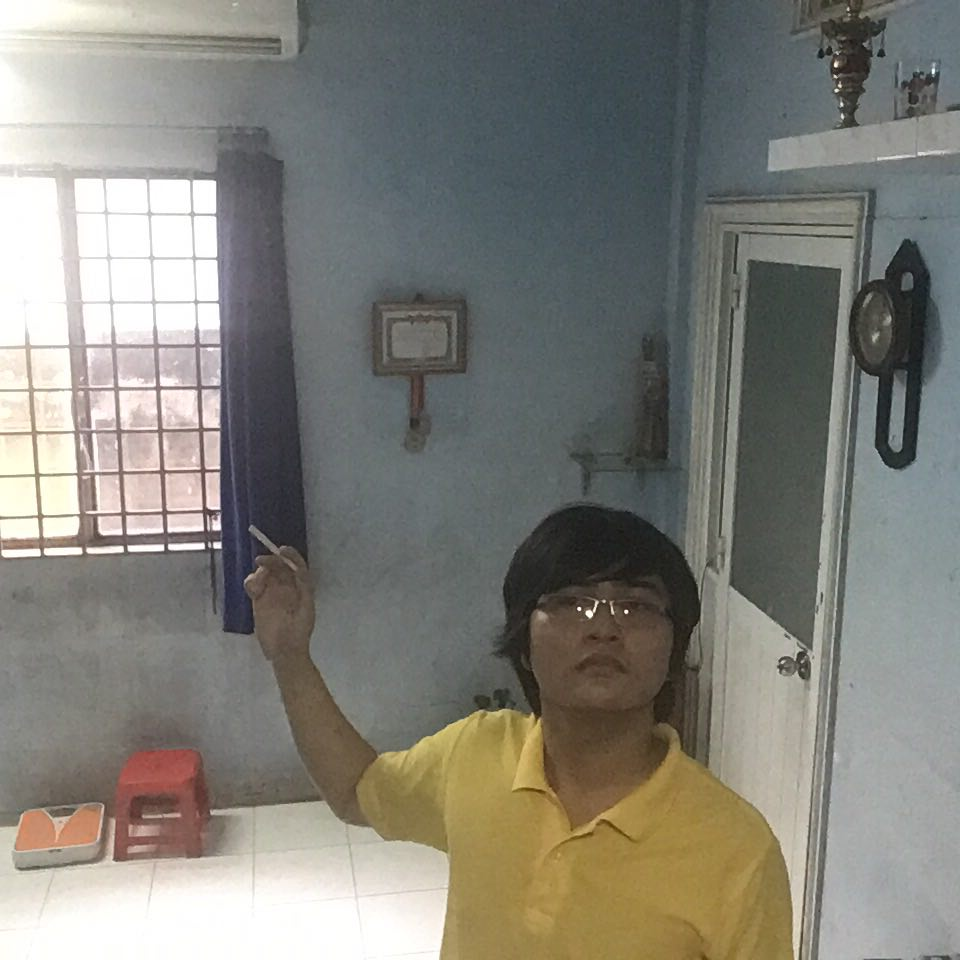cigarette: (241, 520, 281, 554)
person: (211, 494, 808, 960)
